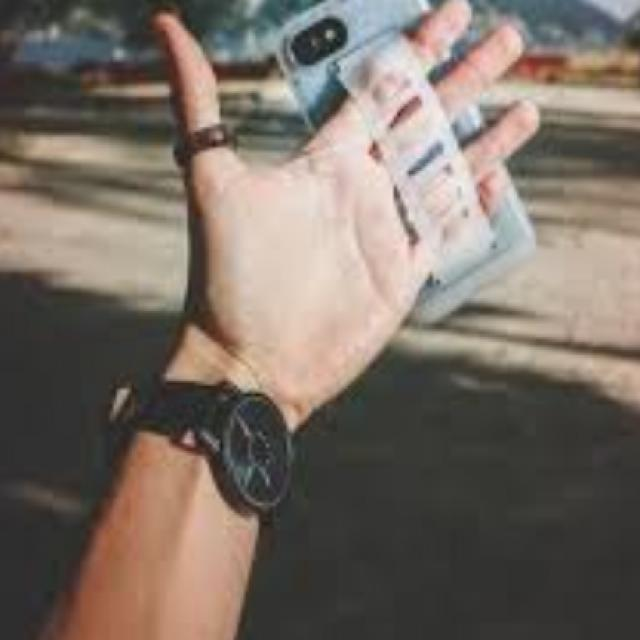Watch: (104, 370, 300, 520)
